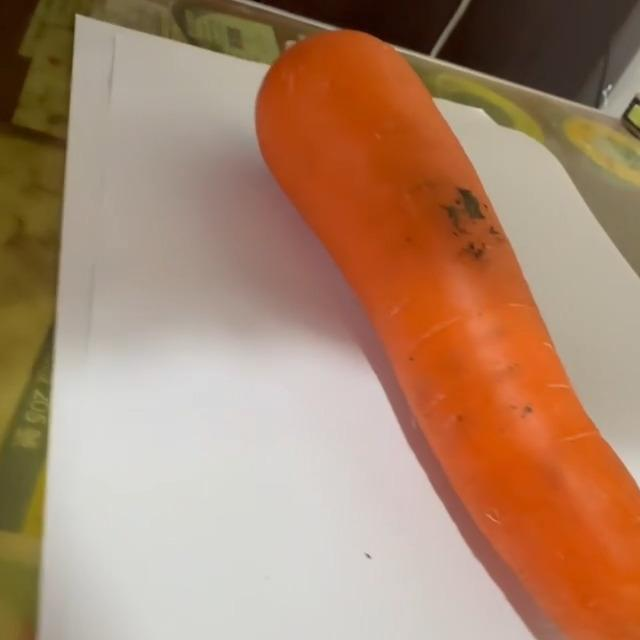carrot: (259, 24, 640, 640)
